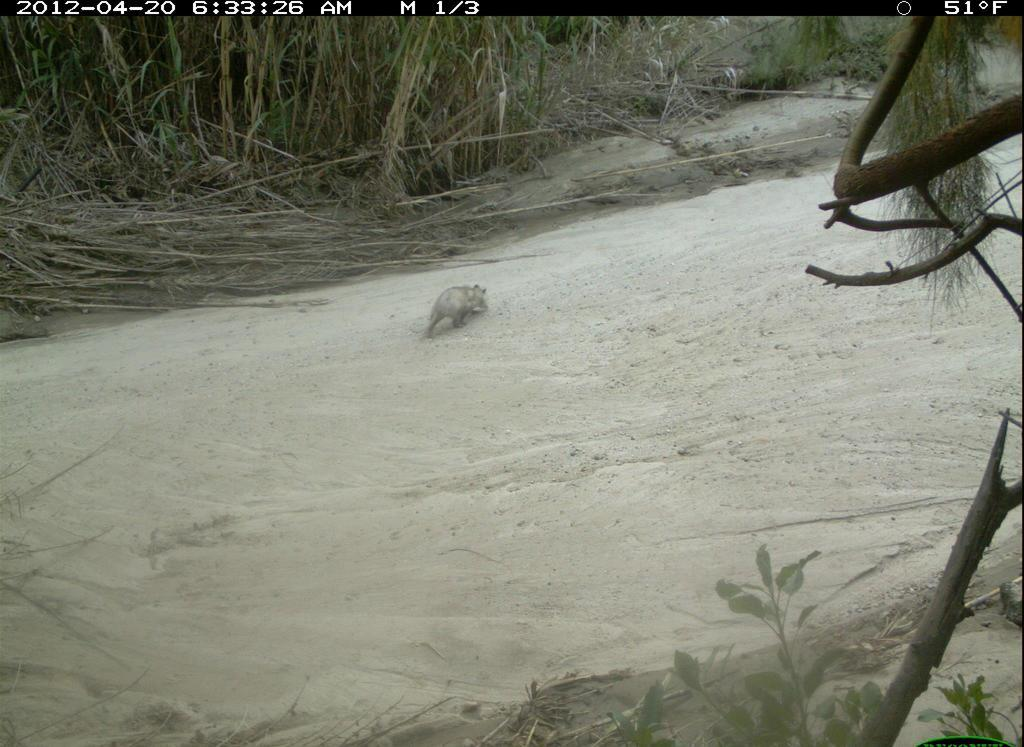opossum: (420, 267, 497, 342)
